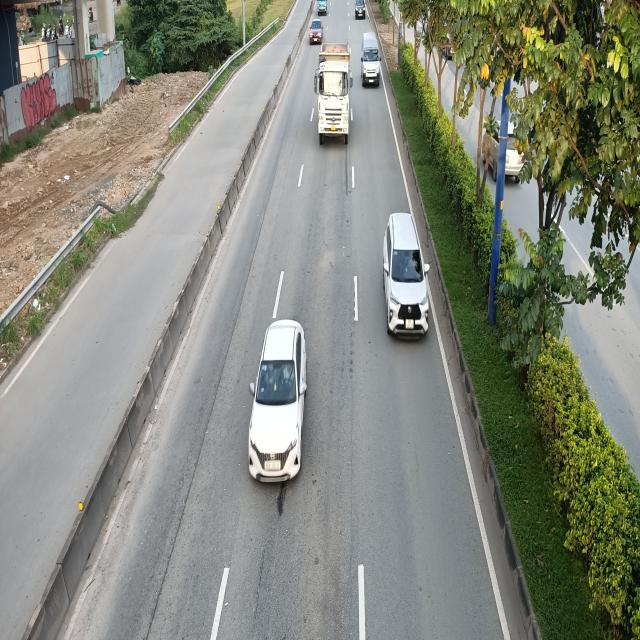car: (249, 322, 309, 484), (381, 212, 428, 340), (310, 20, 324, 46)
container: (316, 44, 354, 143)
van: (360, 32, 381, 88)
